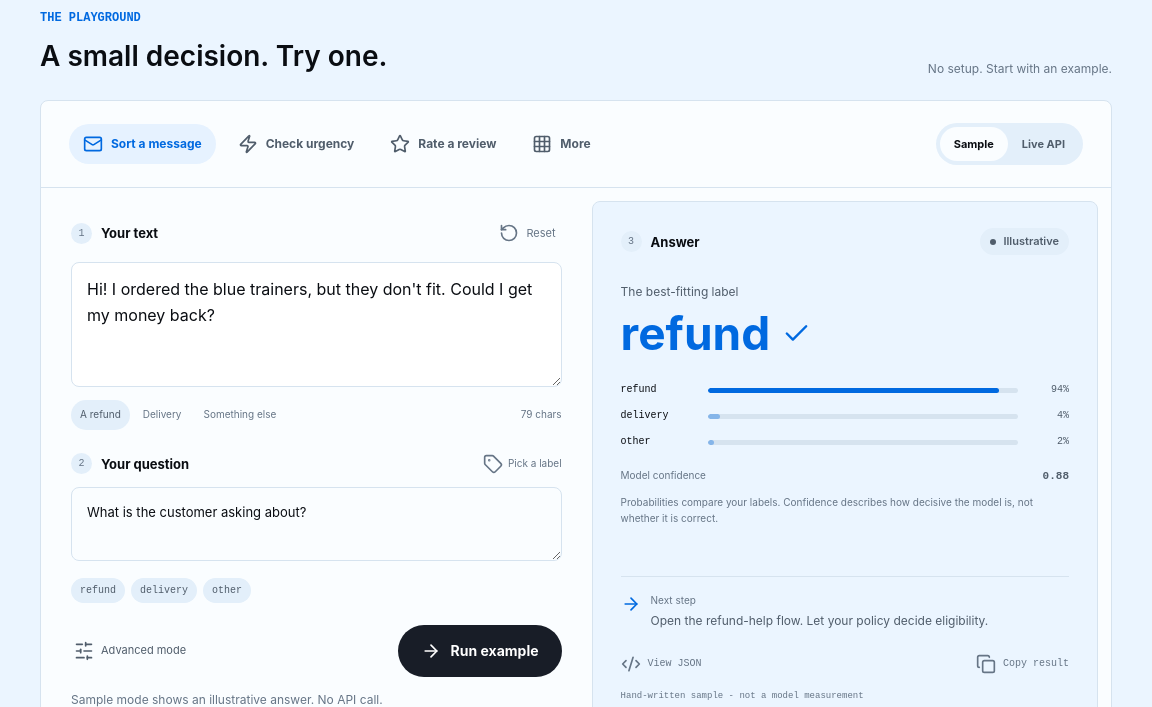
Test: landing request lifecycle › times out after twenty seconds with the current failure message
Click the button "Live API" at (1043, 144), box [1008, 127, 1079, 161]
(page scrolled)
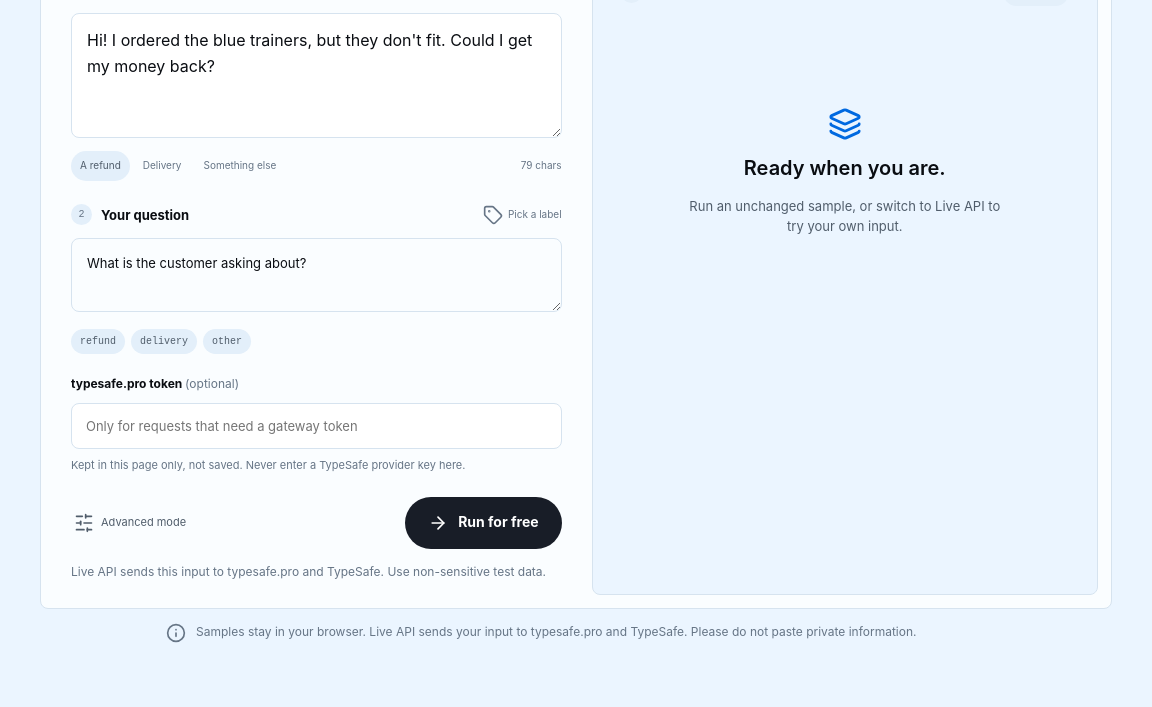
Click the button "Run for free" at (483, 522), box [405, 496, 562, 548]
Wait 20000 ms
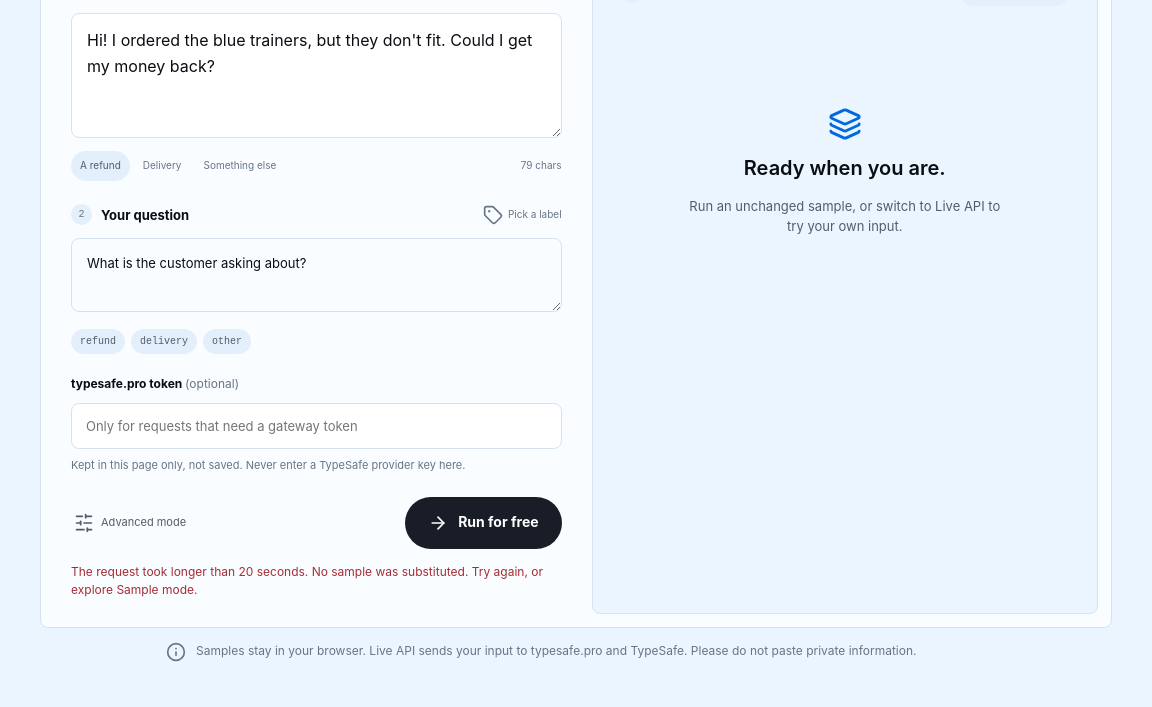
Expected: the text "longer than 20 seconds. No sample was substituted" is shown, [71, 564, 543, 597]
